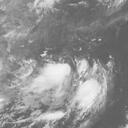cyclone: (42, 61, 105, 110)
